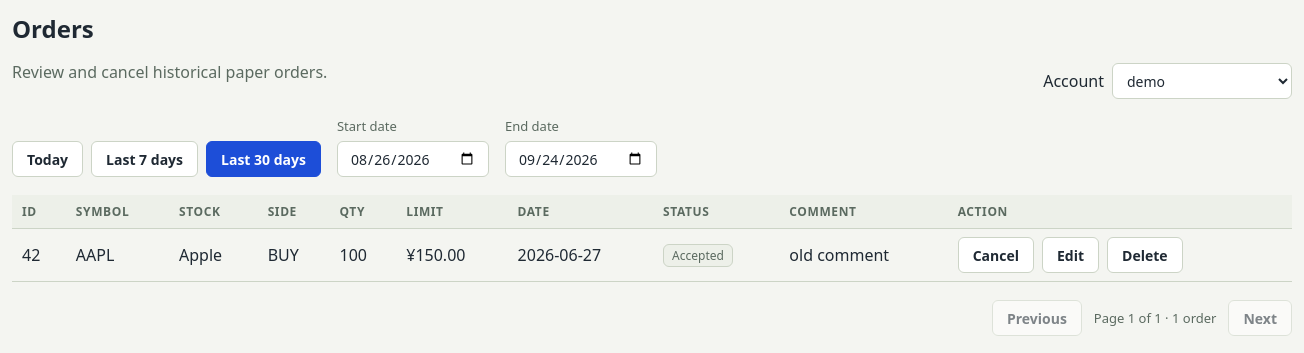
OrdersPage › shows inline edit controls and saves comment
This screenshot has width=1304, height=353.
expect the text "old comment" is shown: met, box [779, 228, 948, 282]
Step 1. Click the button "Edit" → click(1071, 255), box [1042, 237, 1099, 273]
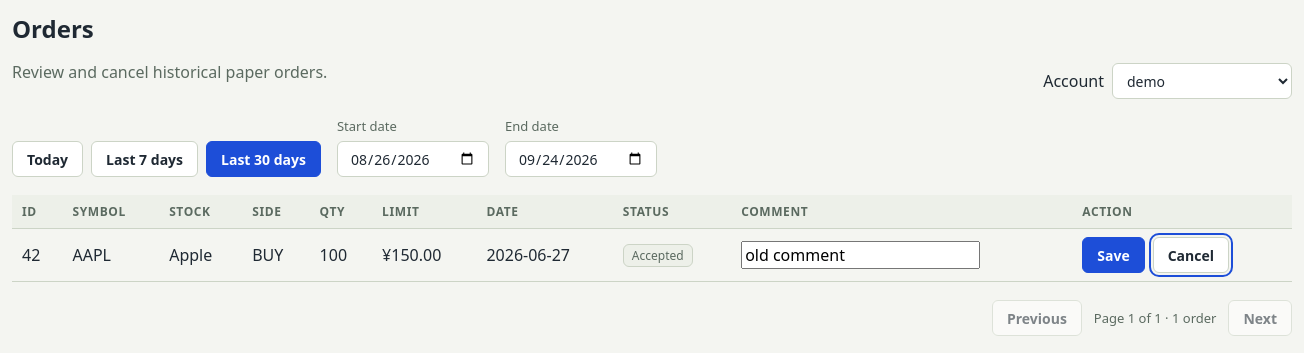
Step 2. Replace the text in the field showing "old comment" with "updated comment" → (861, 255), box [741, 241, 980, 269]
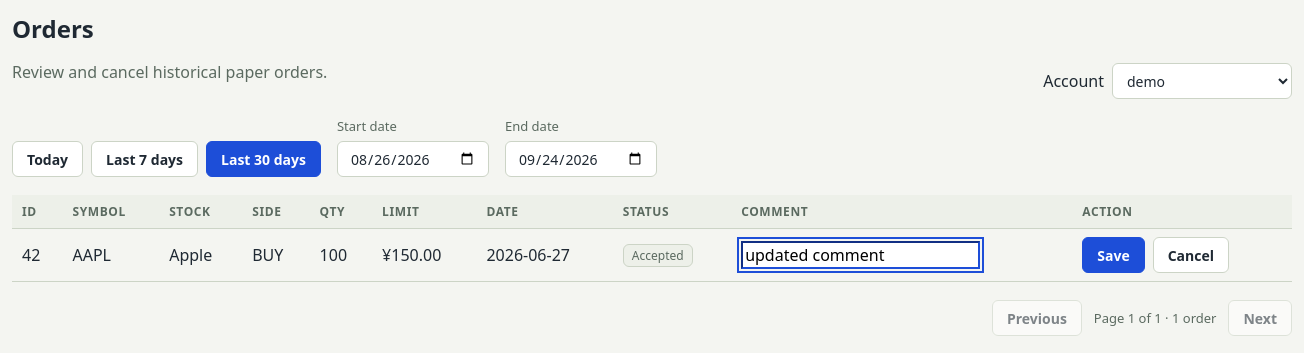
Step 3. Click the button "Save" → click(1114, 255), box [1082, 237, 1145, 273]
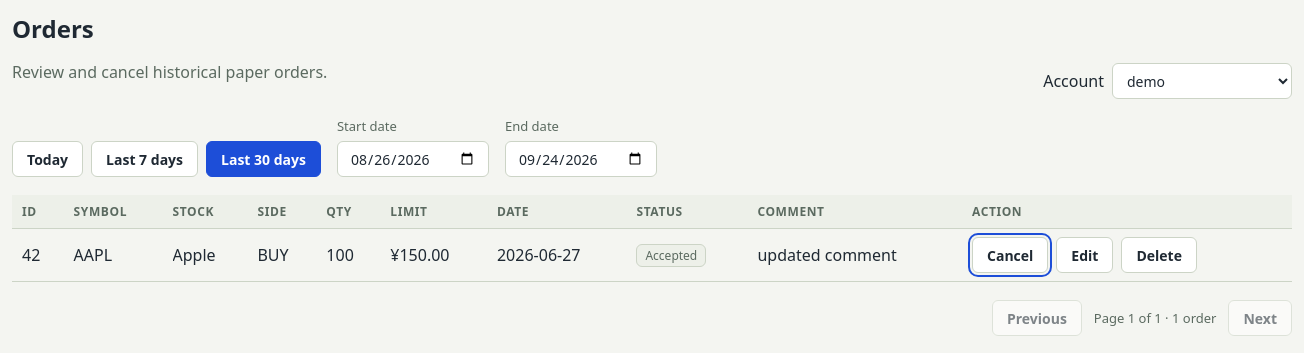
expect the text "updated comment" is shown: met, box [747, 228, 962, 282]
expect the button "Save" is gone: met
